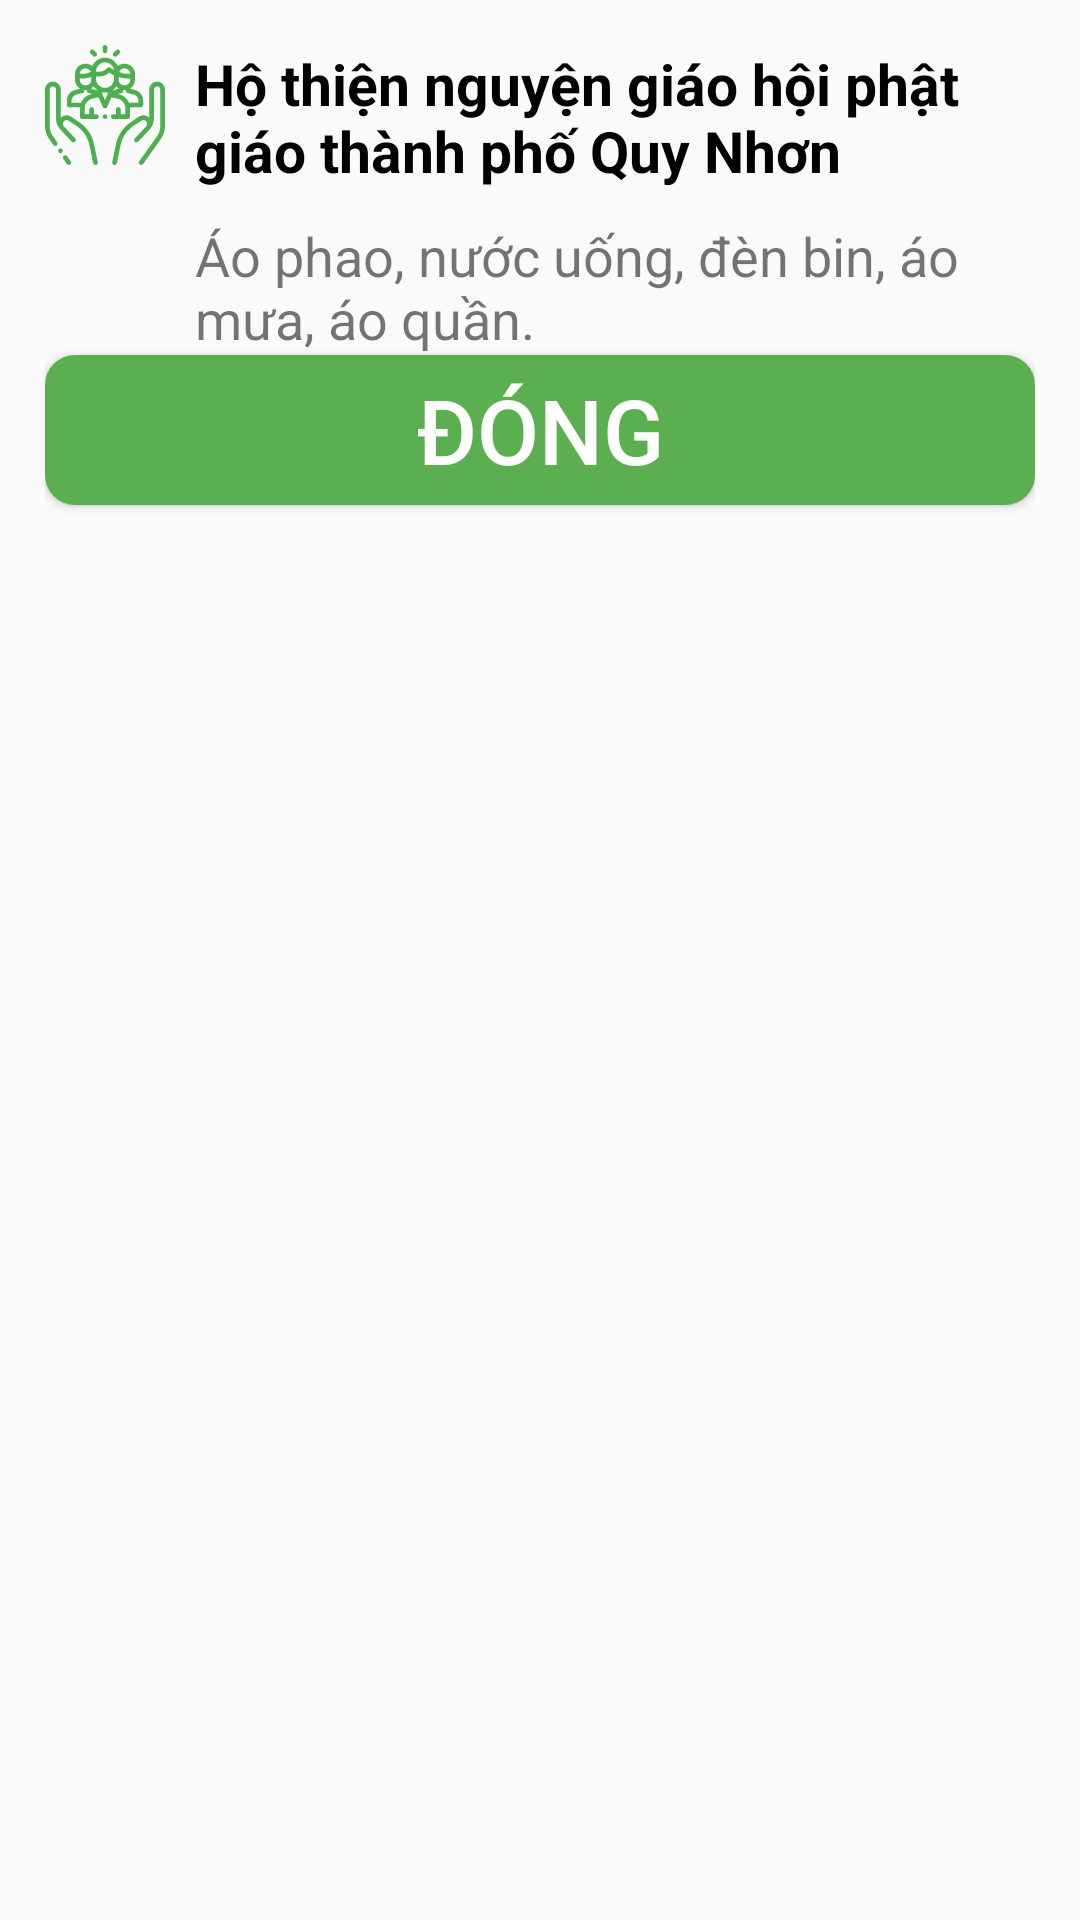

Icons on this 1080x1920 Android screen, each with its box as (x1, y1, x2, y2):
social care: (45, 45, 165, 165)
